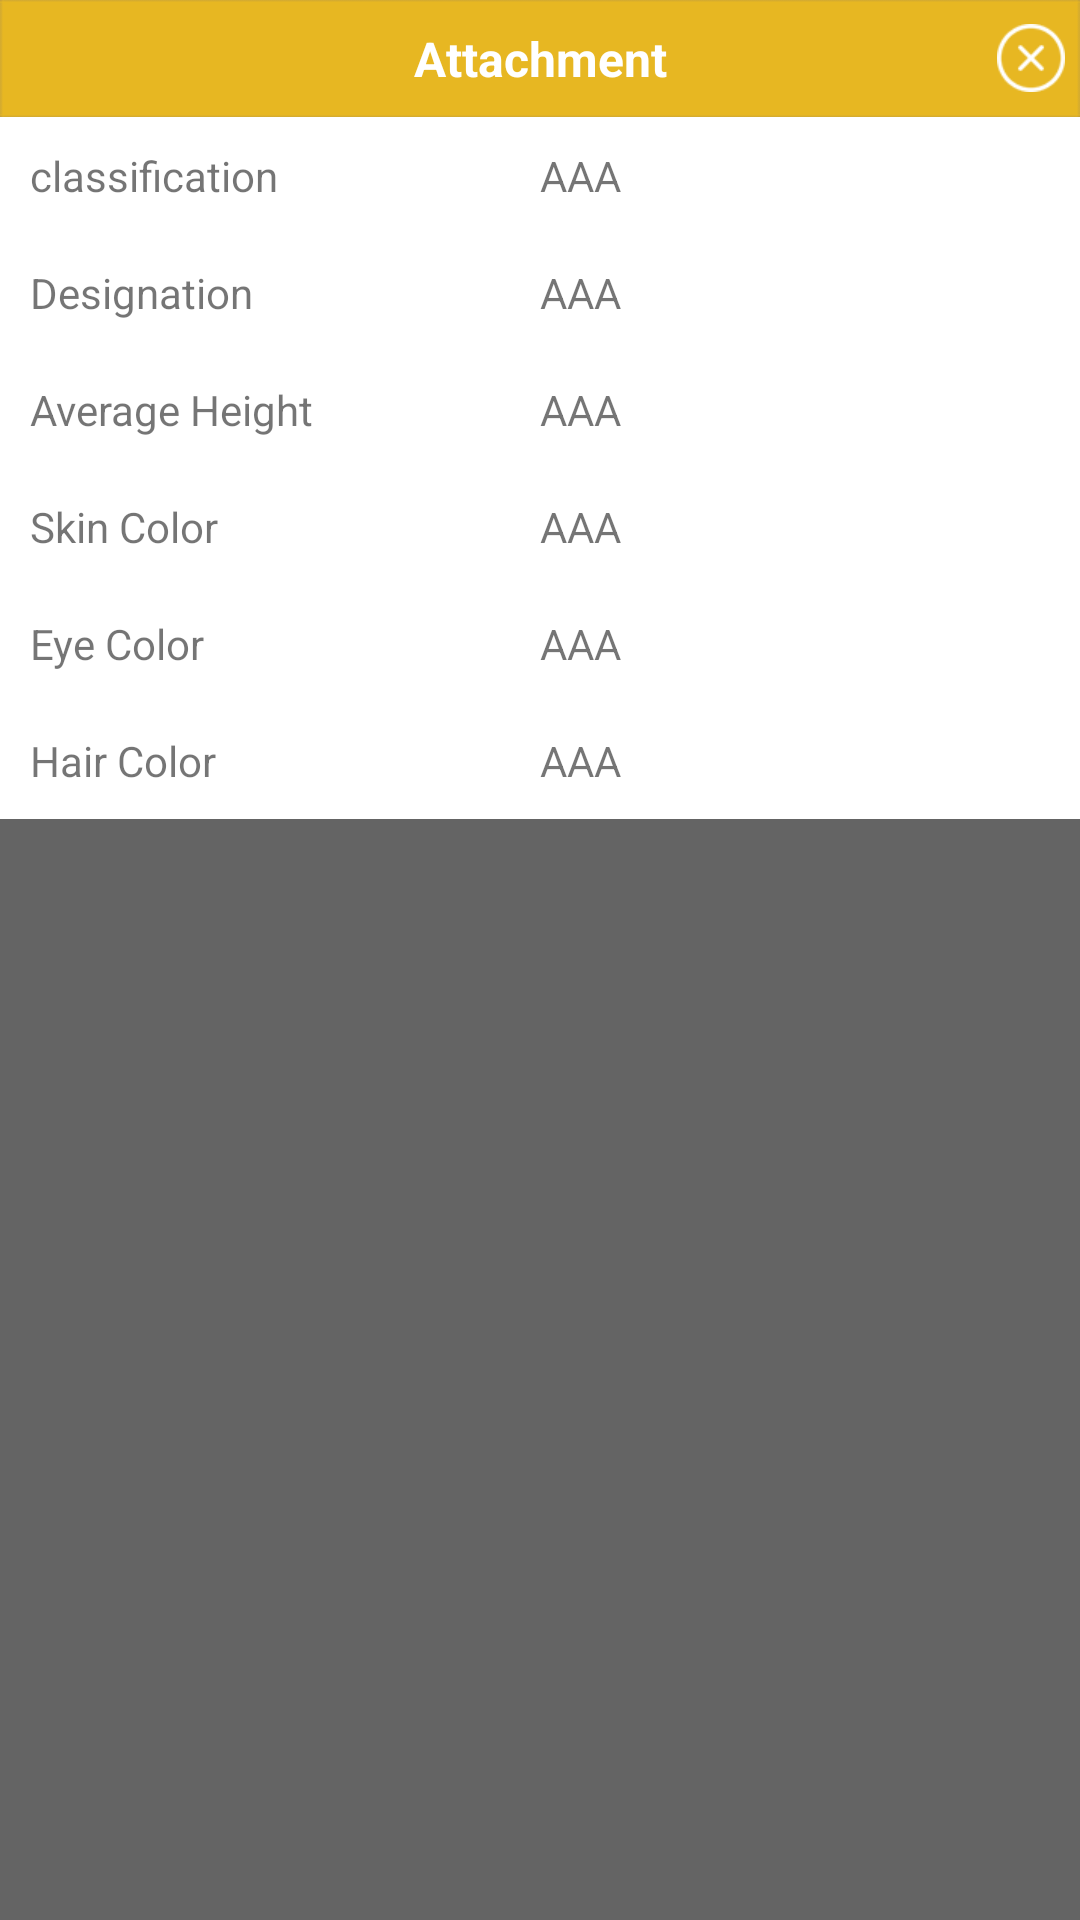

Icon click points for this 1080*1920 phone screenshot, format (x=x, y=y):
close: (x=1031, y=58)
